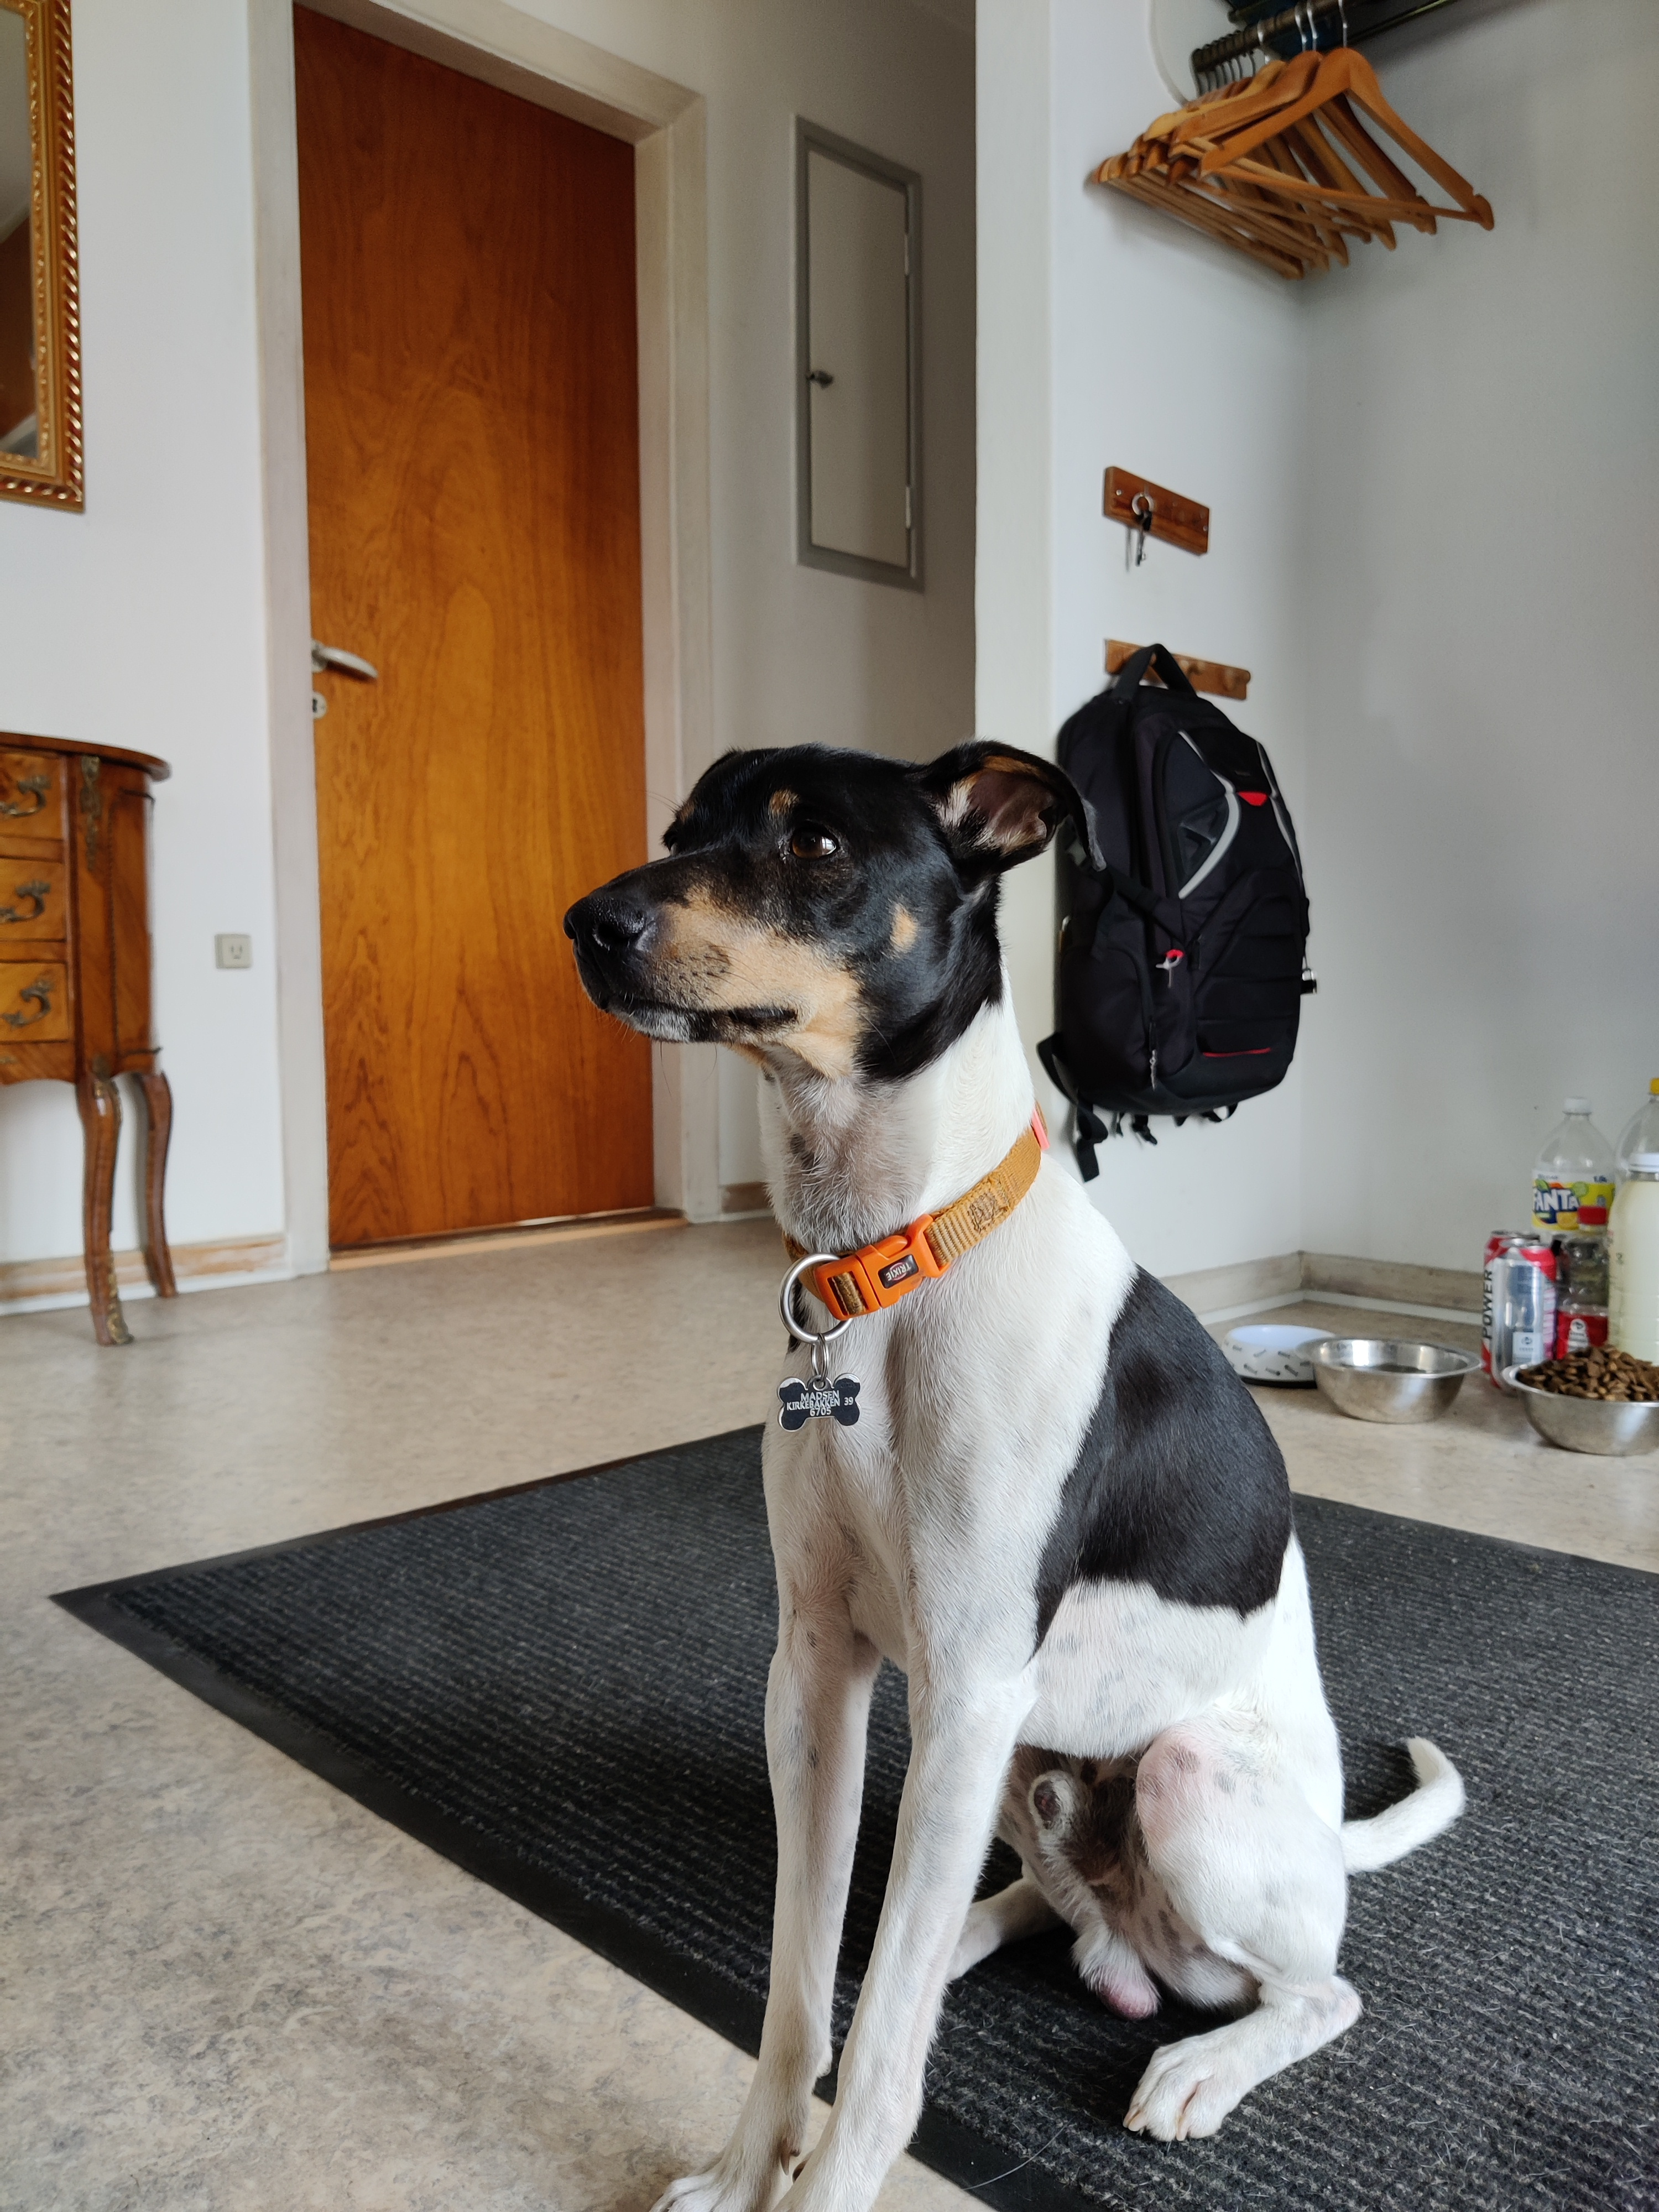Dog: (556, 737, 1476, 2212)
